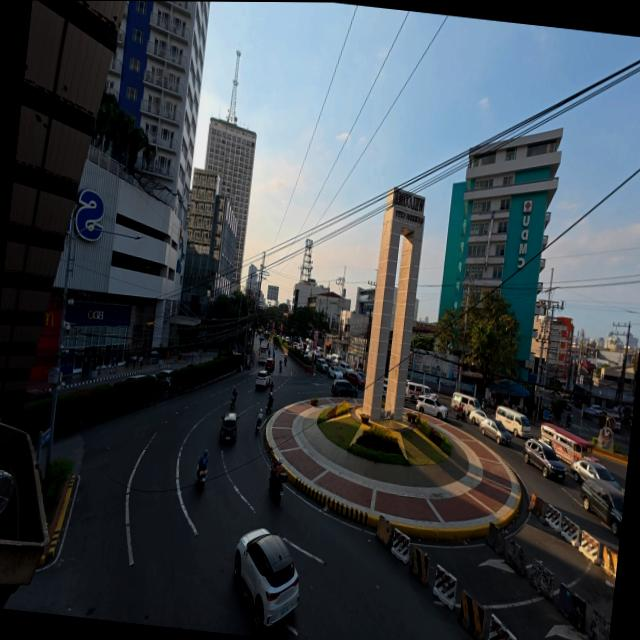Jeepneys: (540, 423, 598, 464)
car: (233, 528, 298, 631), (580, 478, 623, 535), (523, 439, 565, 481), (570, 460, 618, 489), (479, 419, 511, 444), (415, 395, 447, 419), (219, 413, 236, 442), (330, 379, 357, 397), (152, 369, 172, 389), (24, 388, 51, 402), (344, 371, 364, 389), (254, 370, 270, 389), (468, 409, 487, 424), (327, 365, 342, 379), (315, 357, 327, 371), (122, 374, 146, 381), (265, 358, 274, 372), (355, 370, 365, 380)
motorcycle: (268, 472, 286, 502), (196, 463, 205, 490), (455, 410, 467, 422), (229, 395, 236, 410), (255, 417, 261, 433), (265, 401, 272, 413), (565, 415, 570, 427), (268, 382, 273, 393), (282, 356, 288, 365), (278, 362, 281, 372)
vans: (495, 407, 530, 439), (451, 393, 479, 413), (405, 381, 430, 403), (337, 361, 350, 376)
